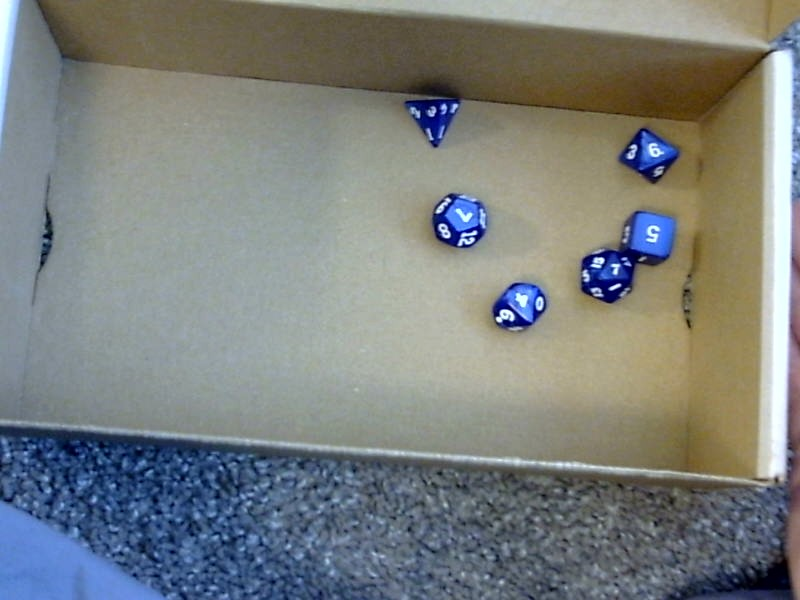d10 4: (490, 275, 548, 335)
d12 7: (428, 187, 492, 254)
d20 7: (576, 246, 632, 305)
d4 3: (399, 90, 465, 152)
d6 5: (621, 211, 681, 265)
d8 6: (615, 124, 680, 186)
